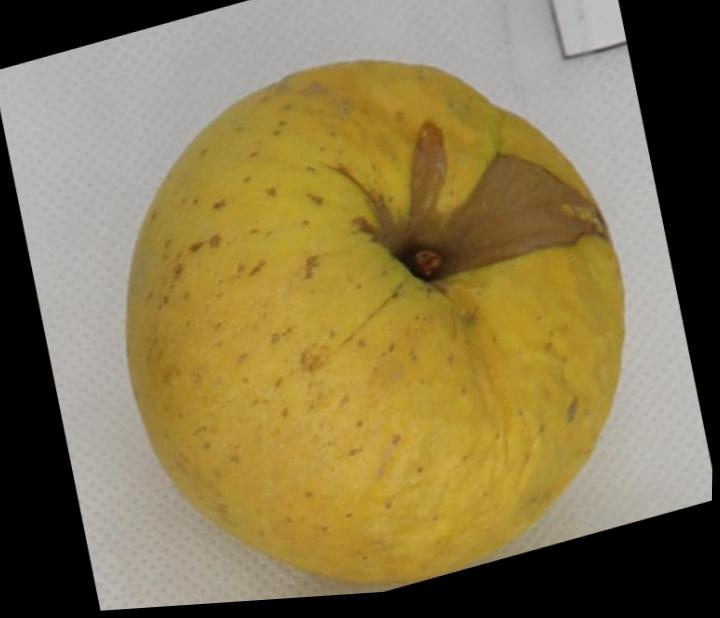apple: (128, 60, 624, 582)
bruise_discoloration: (369, 121, 606, 277)
